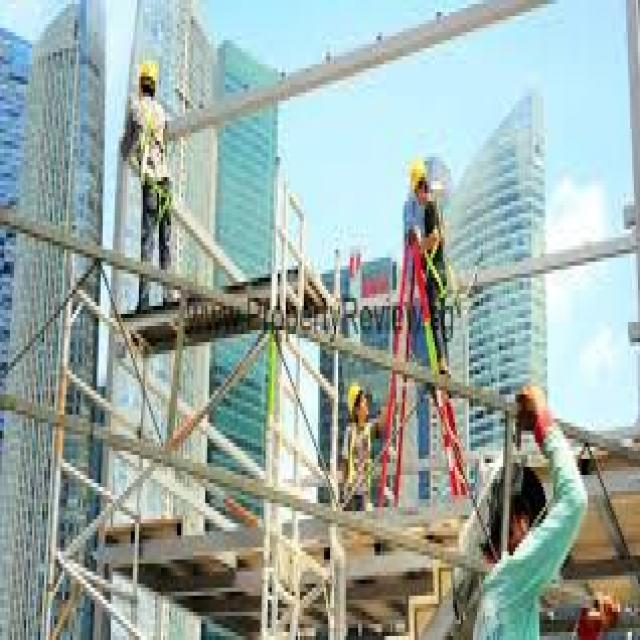Reflective-Jacket: (392, 197, 453, 354), (127, 97, 173, 201)
Safety-Helmet: (400, 145, 434, 205), (135, 52, 163, 101), (344, 374, 370, 419)
